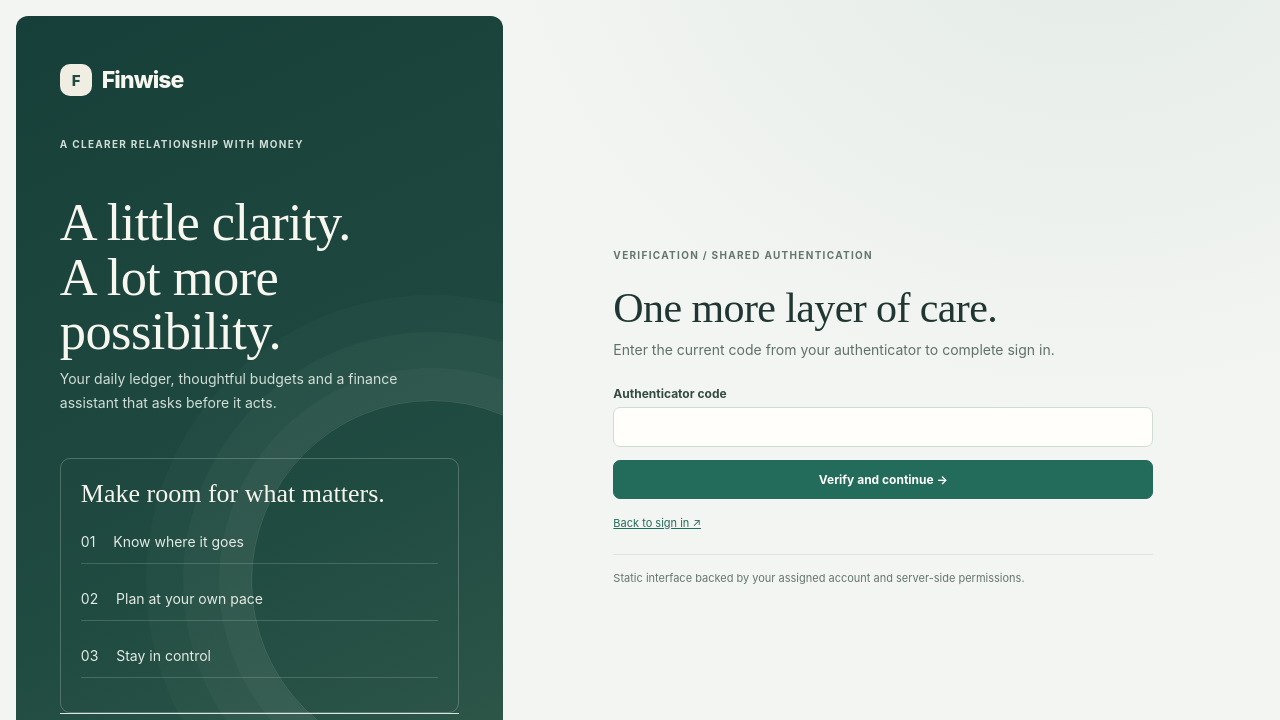
Finwise key views › shows an MFA failure without leaking which factor failed
Type "000000" into the field labelled "Authenticator code" at x=883, y=427, box [613,407,1153,447]
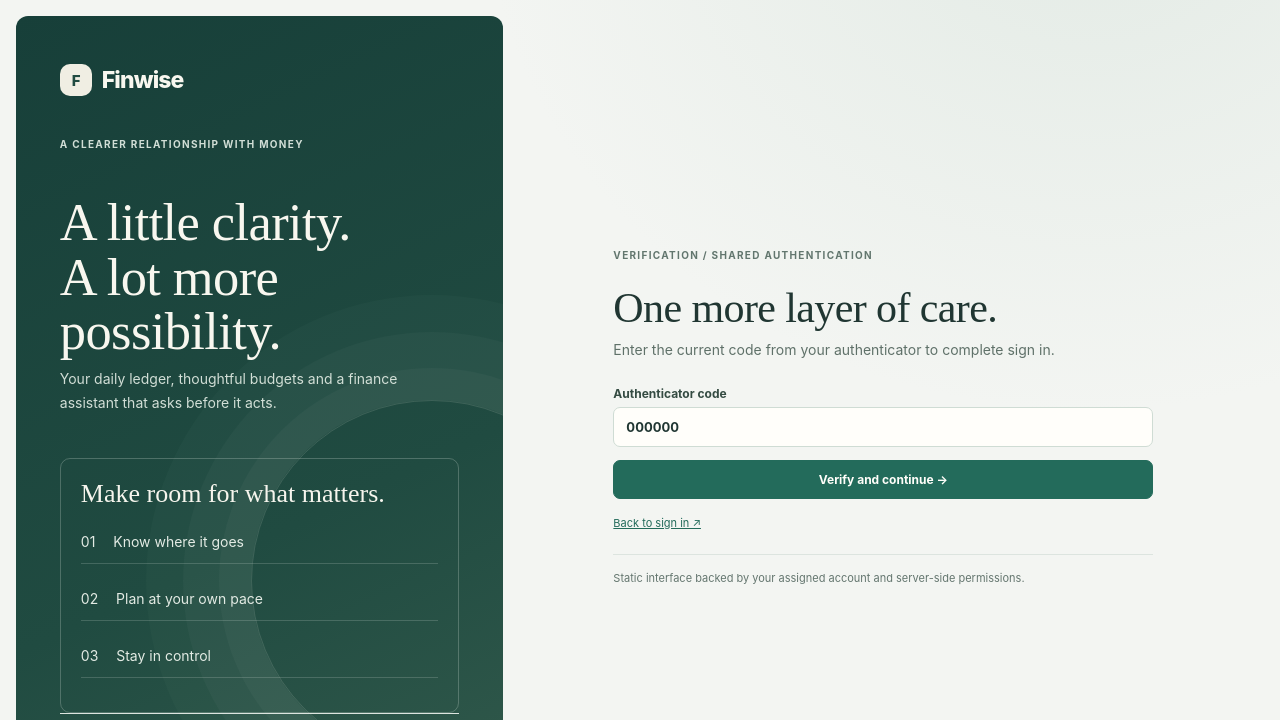
Click the button "Verify and continue →" at x=883, y=479, box [613,460,1153,499]
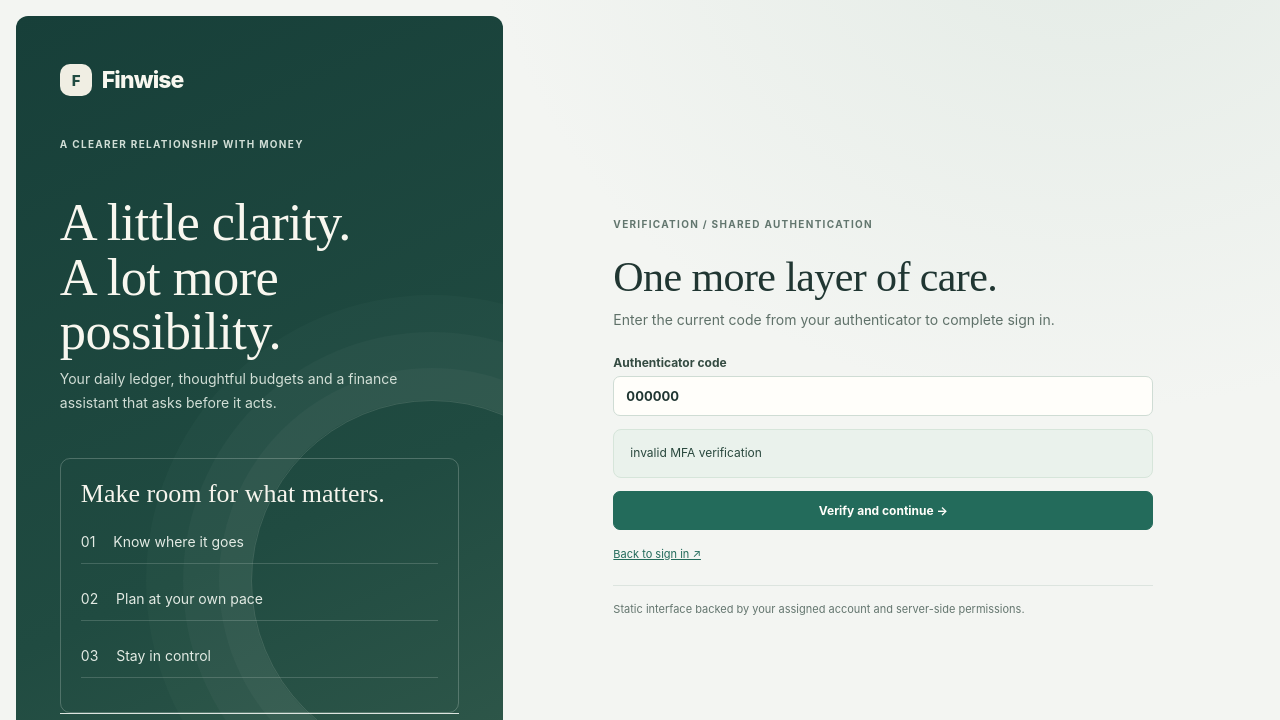
Check: the message reads "invalid MFA verification", box [630,445,762,460]
